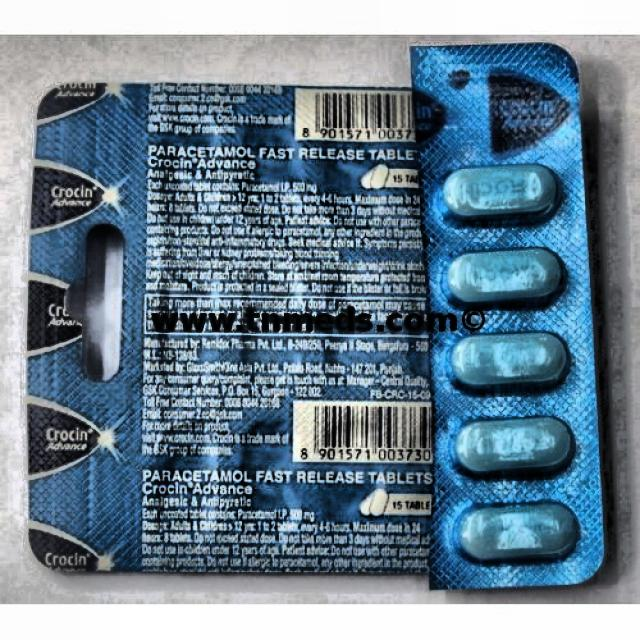Crocin: (44, 88, 150, 568)
